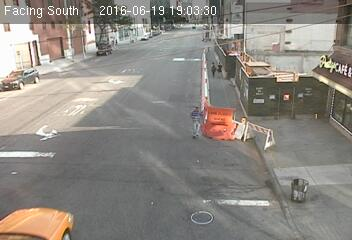neg: (241, 73, 266, 105), (292, 68, 313, 95), (185, 22, 205, 49), (319, 56, 339, 83), (105, 41, 117, 58), (127, 30, 136, 42)
pos: (182, 101, 211, 139), (214, 58, 228, 77), (207, 60, 218, 76)
